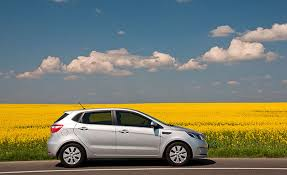car: (43, 104, 207, 166)
